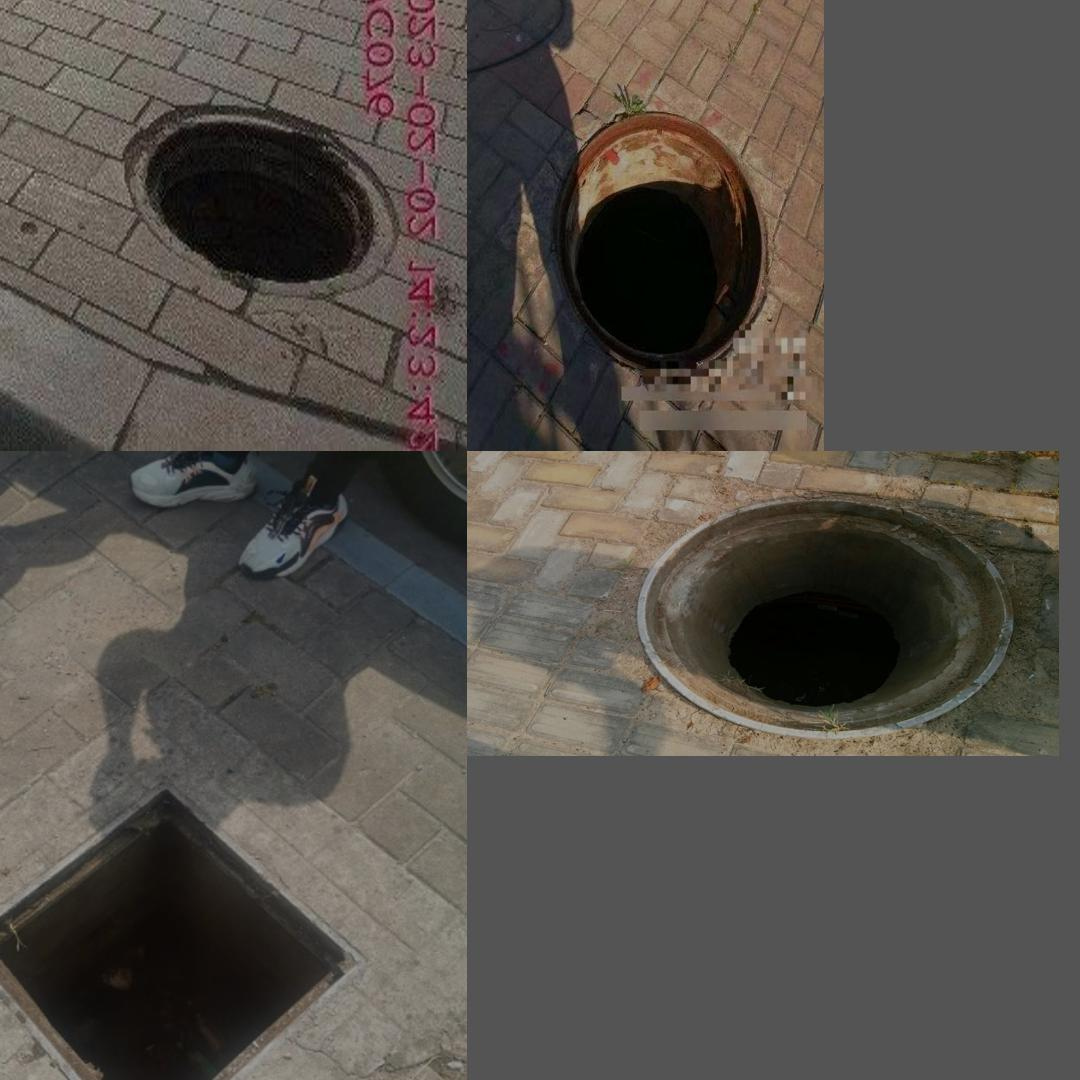lose: (0, 783, 369, 1080), (636, 497, 1012, 738), (552, 103, 772, 379), (122, 93, 395, 292)
